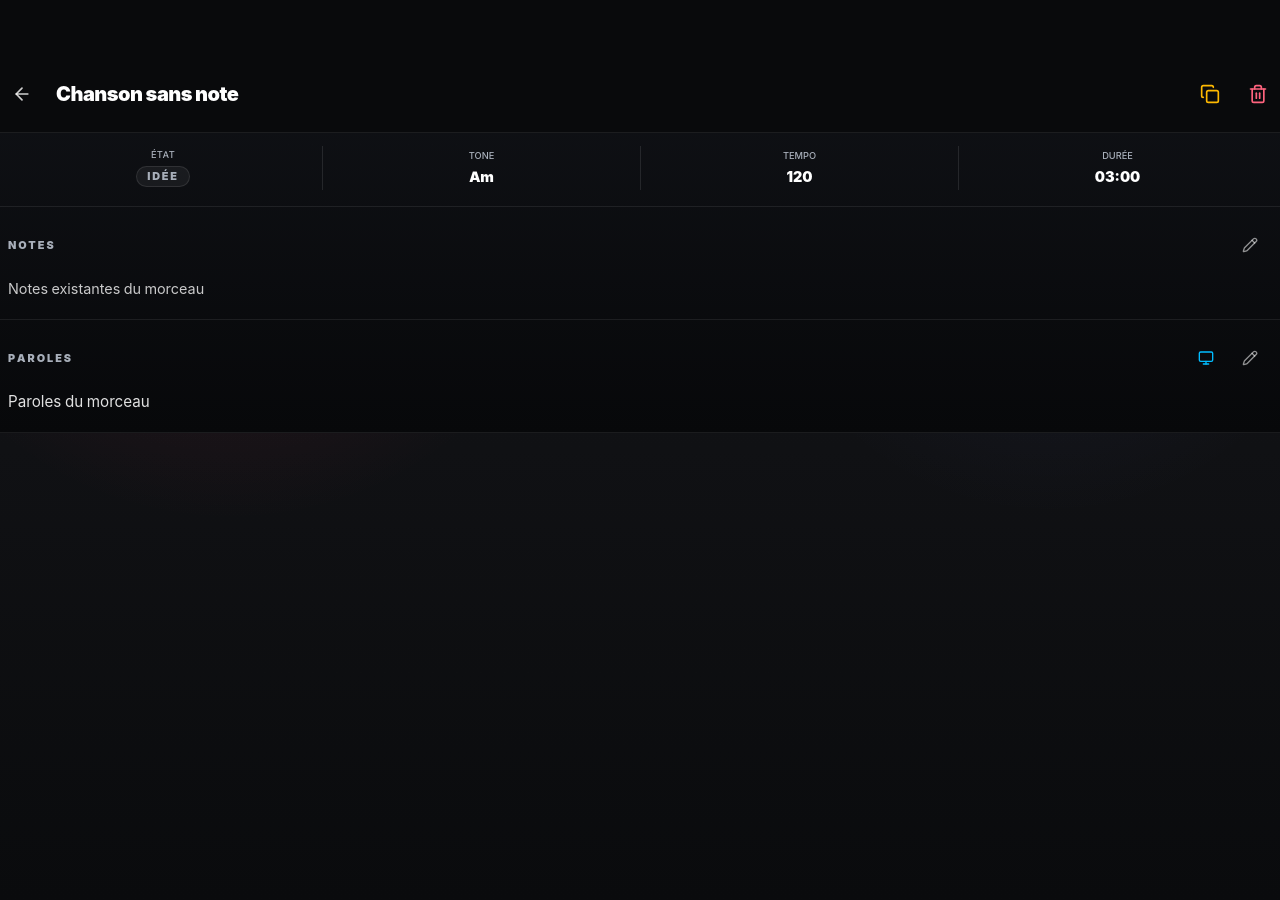
SongDetailPage - Notes › préremplit le dialogue quand des notes existent
Expected: the text "Notes existantes du morceau" is shown, x1=8 y1=280 x2=204 y2=297
Click the button named "Modifier les notes". click: (1250, 245)
box: x1=1228 y1=223 x2=1272 y2=267
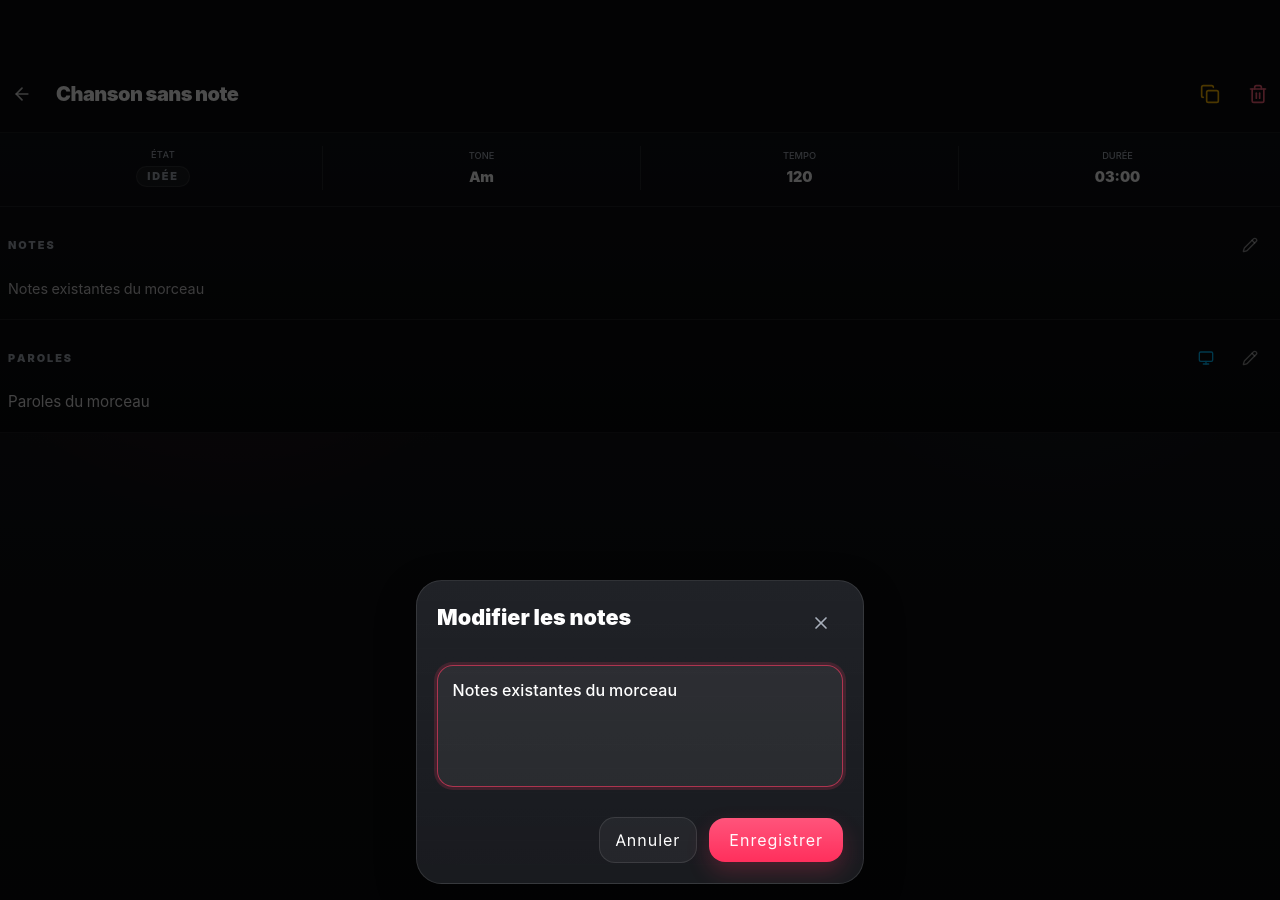
Now the text box named "Notes" holds "Notes existantes du morceau", box x1=437 y1=665 x2=843 y2=787
